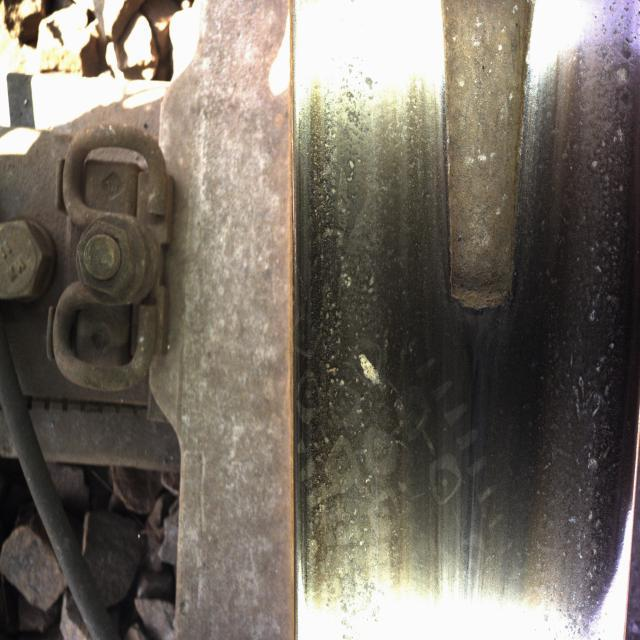scar: (304, 34, 408, 606)
